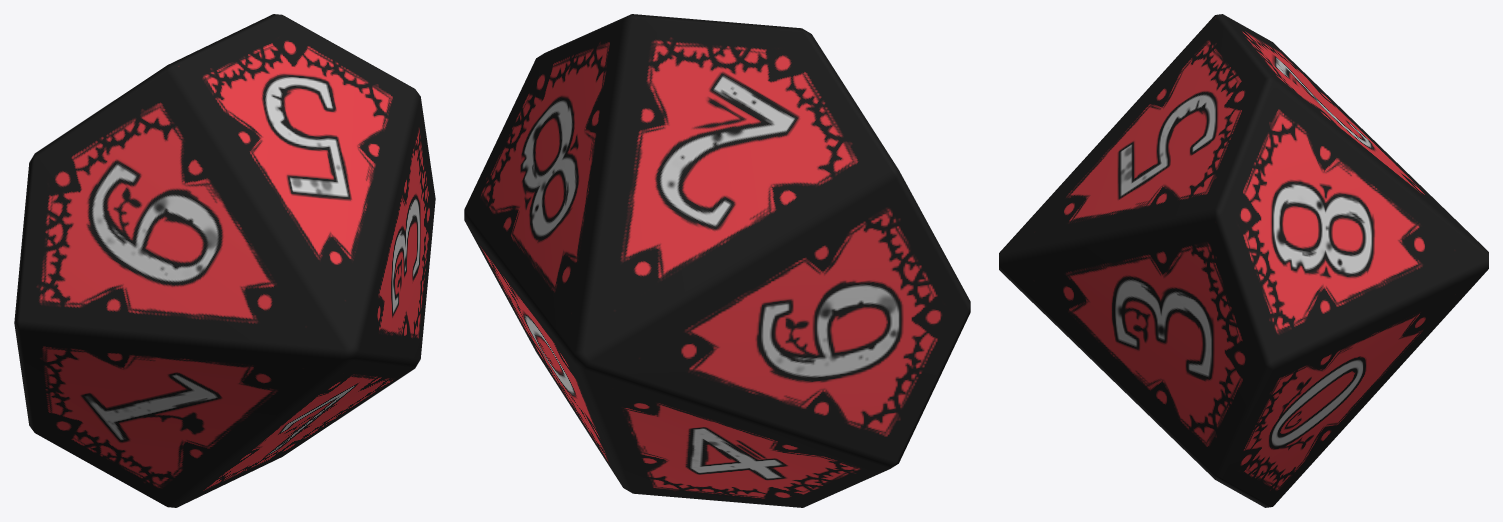
File: d10-carrion.glb
3 renders of one model, left to right at view 1: azimuth 30°, elevation 25°; view 2: azimuth 150°, elevation 25°; view 3: azimuth 270°, elevation 25°, orthographic. The views are drawn at different scales.
Visible parts, largest first — view 1: Mesh_0; view 2: Mesh_0; view 3: Mesh_0.
Part boxes in pixels (x1,y1,x2,y2): Mesh_0: (14, 14, 435, 507); Mesh_0: (464, 14, 970, 507); Mesh_0: (999, 14, 1488, 507).
Size of the model in its own units: 175 by 166 by 172.
1 material, 1 textured.
